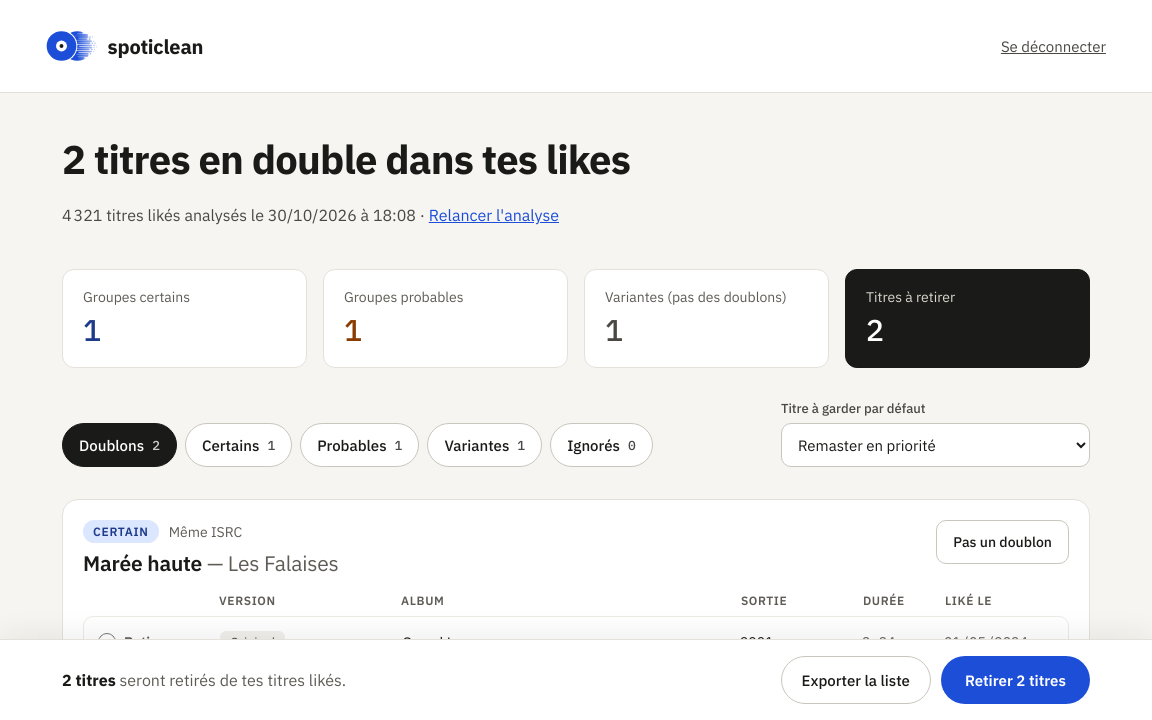
Scenario: ReviewScreen › reports a removal that failed entirely
Step 1. Click the button "Retirer 2 titres" → [1015, 680], box [941, 656, 1090, 704]
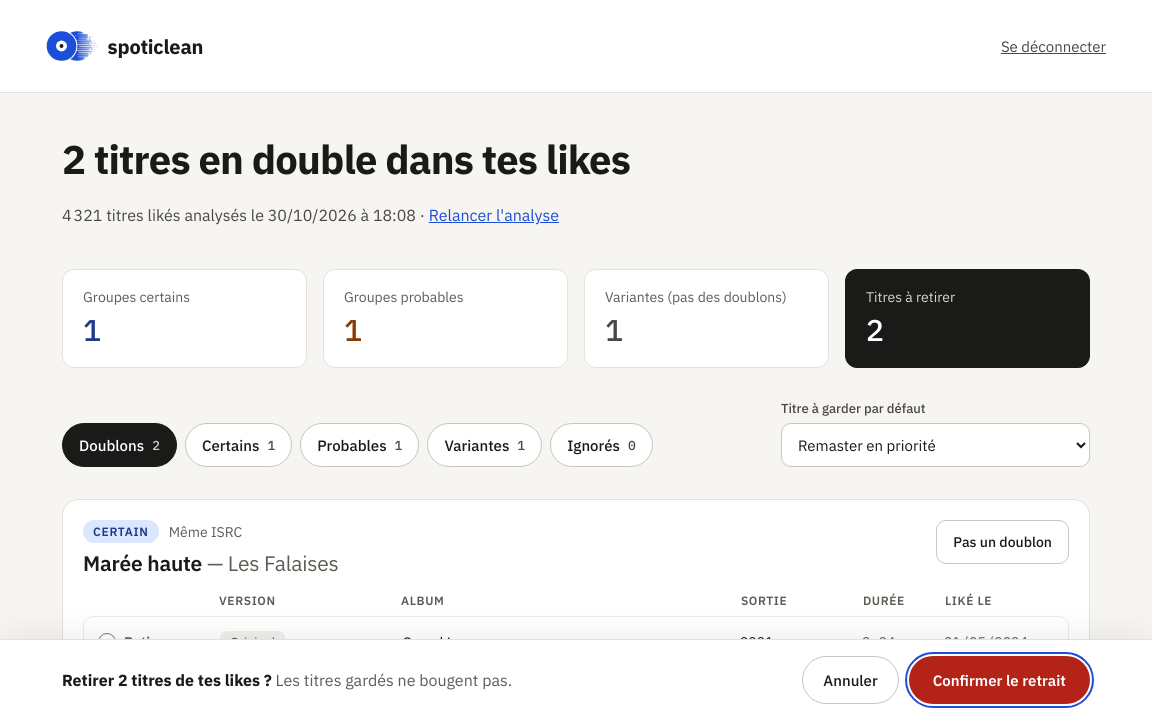
Step 2. Click the button "Confirmer le retrait" → [999, 680], box [909, 656, 1090, 704]
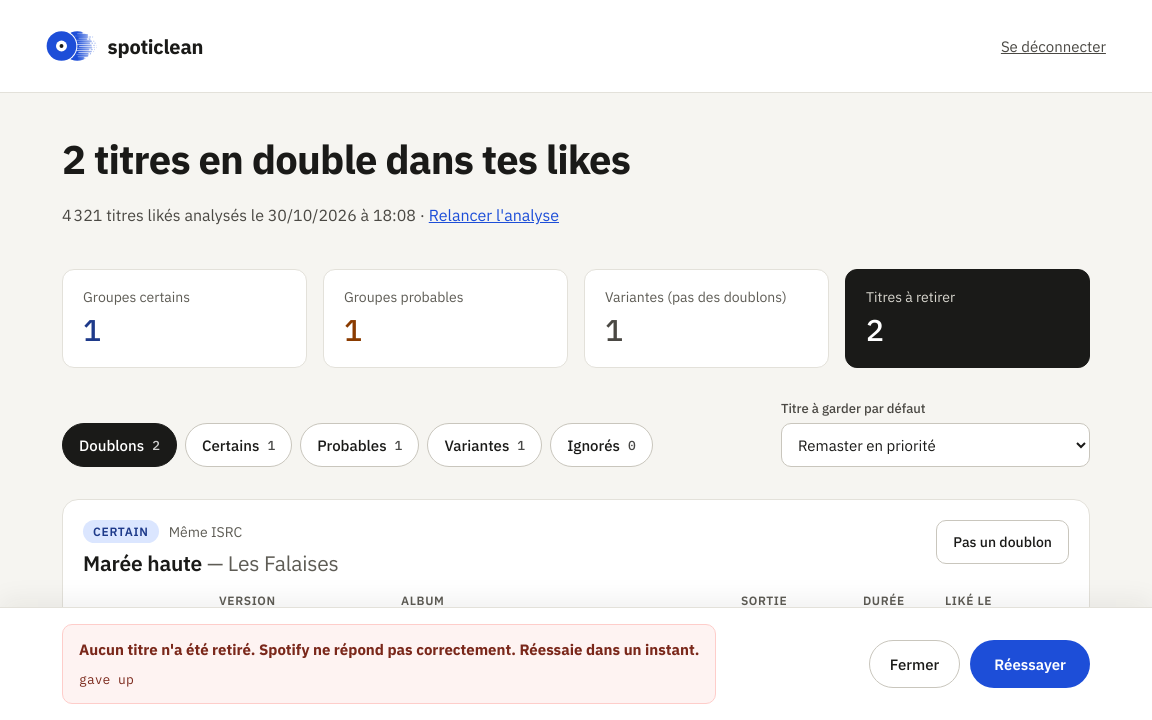
Result: the message shows "Aucun titre n'a été retiré. Spotify ne répond pas correctement." at [62, 624, 716, 704]
Result: the message shows "gave up" at [79, 670, 134, 688]
